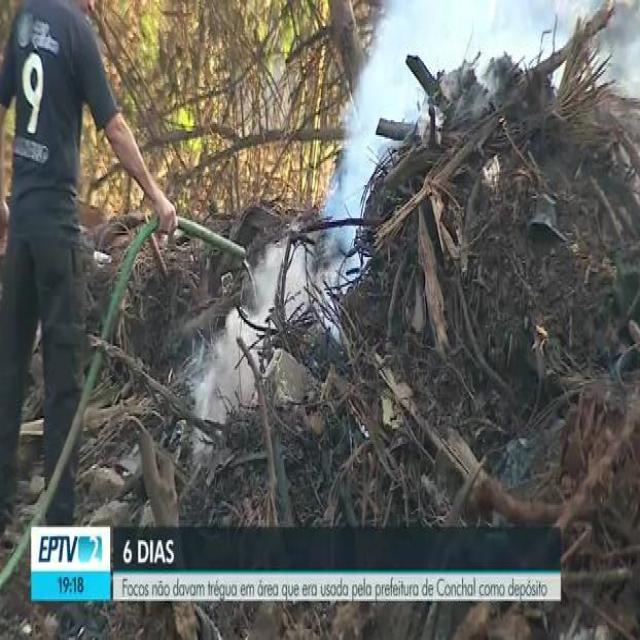Smoke: (210, 200, 366, 409), (321, 0, 423, 244), (421, 0, 638, 94)
